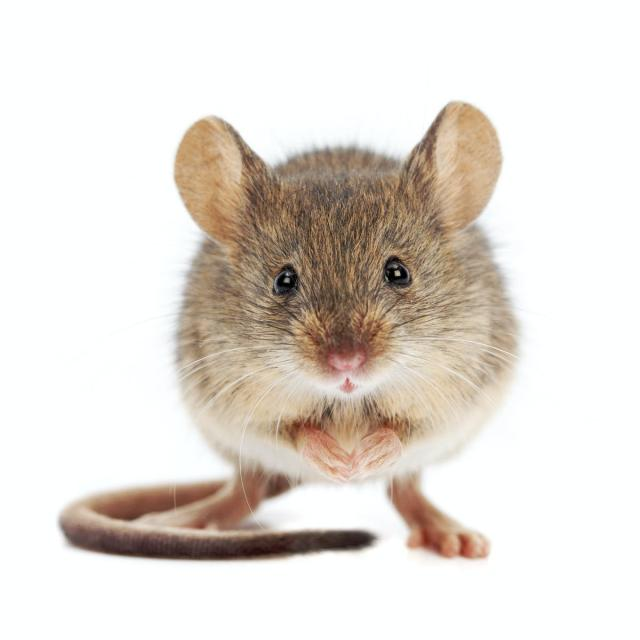Mouse: (52, 75, 530, 581)
